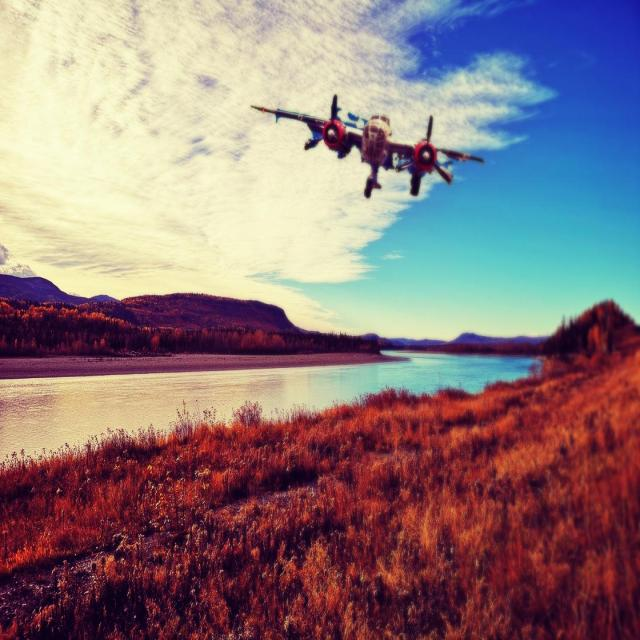airplane: (250, 93, 484, 199)
